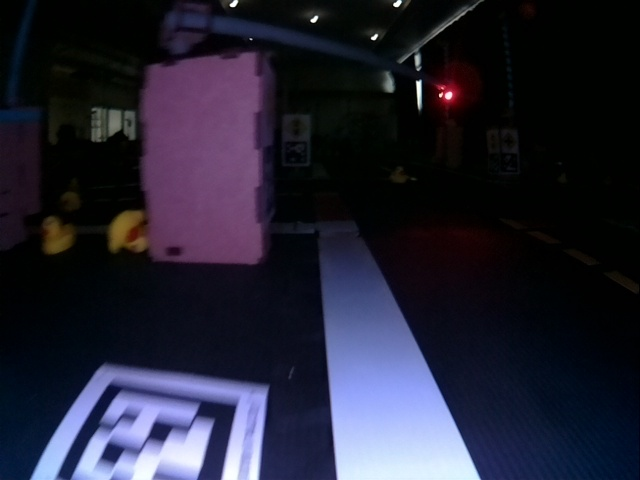Duckie: (108, 211, 147, 254), (40, 220, 74, 255), (389, 165, 407, 184)
QR code: (58, 363, 260, 474), (284, 142, 310, 166)
Signal sign: (283, 116, 310, 139)
Traffic light: (438, 86, 456, 104)
